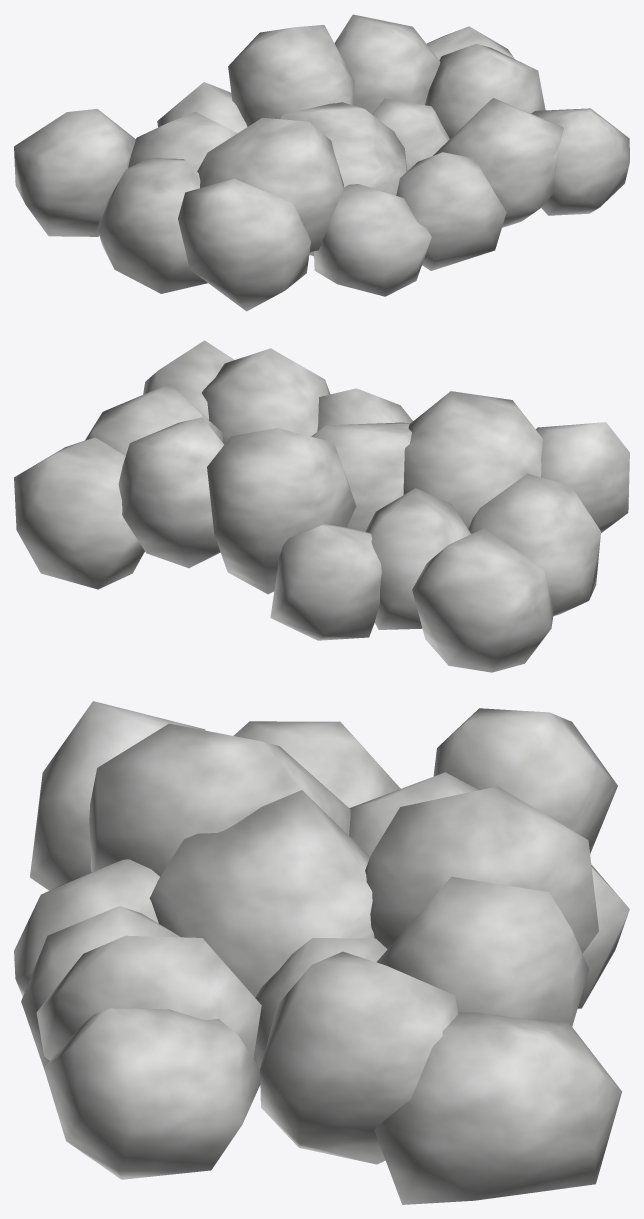
File: pas_keru_v0.glb
The picture shows the model from 3 angles, top to bottom: view 1: azimuth 30°, elevation 25°; view 2: azimuth 150°, elevation 25°; view 3: azimuth 270°, elevation 25°; orthographic projection. The views are drawn at different scales.
Parts seen in each view (by area): view 1: dum; view 2: dum; view 3: dum.
Part boxes in pixels (x1,y1,x2,y2): dum: [14, 14, 629, 311]; dum: [14, 340, 629, 672]; dum: [14, 701, 629, 1204].
Size of the model in its own units: 2.51 by 0.7742 by 1.68.
1 material, 1 textured.
